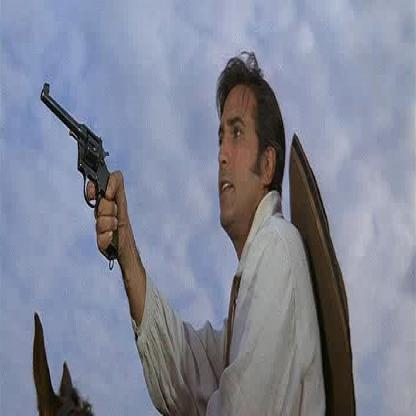gun: (43, 60, 120, 284)
